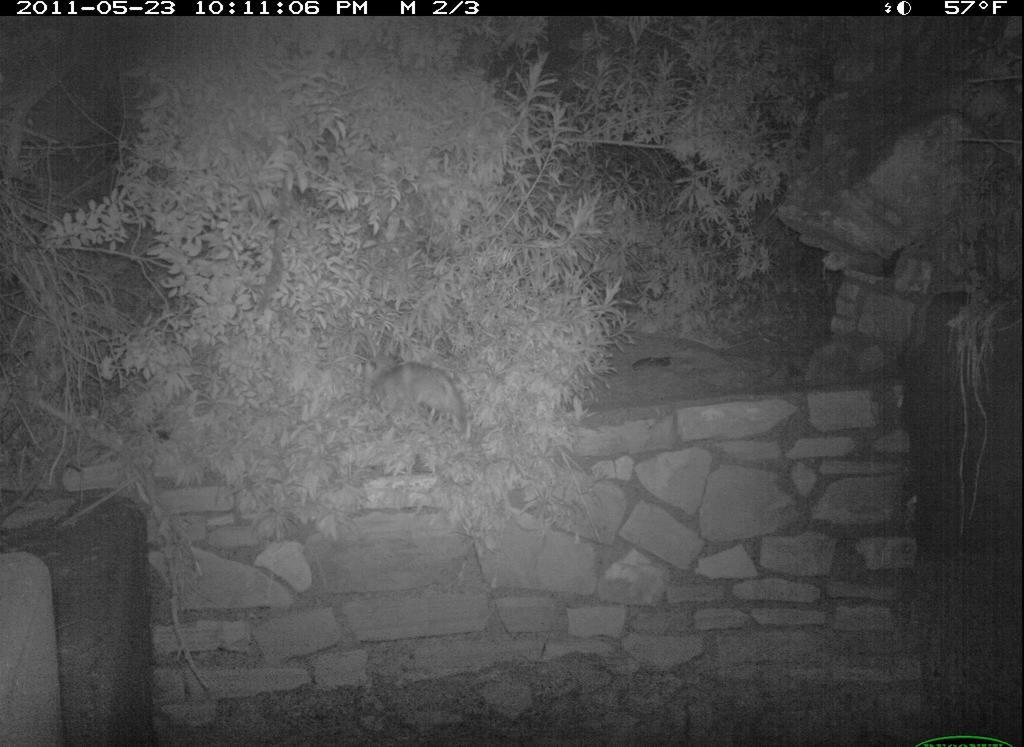opossum: (309, 347, 502, 451)
